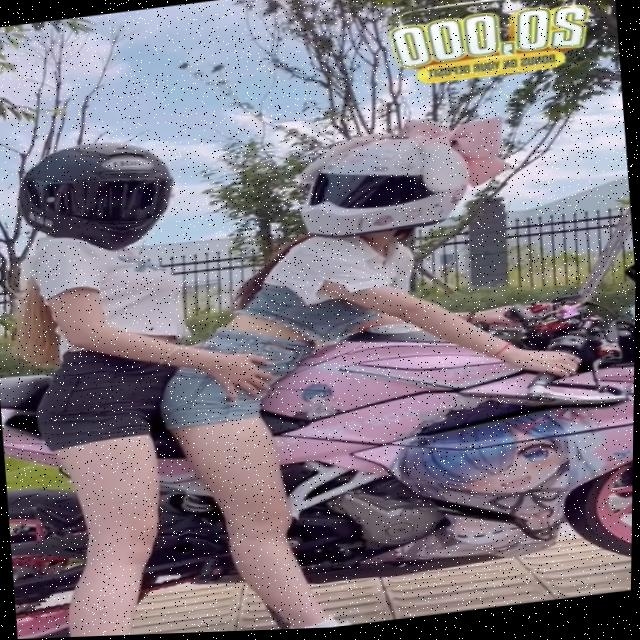helmet: (288, 124, 483, 250), (9, 131, 185, 267)
